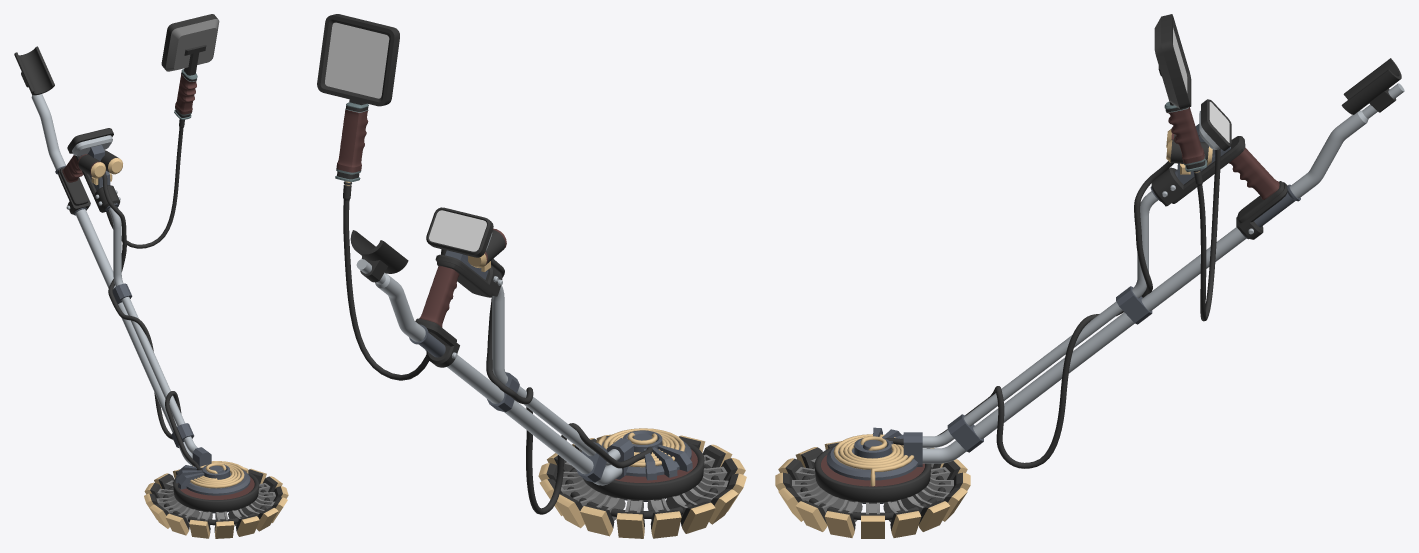
The model's file is M-Metal Detector.fbx.
3 views of the same model, side by side, from view 1: azimuth 30°, elevation 25°; view 2: azimuth 150°, elevation 25°; view 3: azimuth 270°, elevation 25° (orthographic). The views are drawn at different scales.
Parts seen in each view (by area): view 1: Tool Structure Tube, Magnetic Ring, Display Large, Head Ring, Detector Cable, Structure Ring, Tool Hardware, Display Handle, Cooling Spiral, Display Cable, Tool Clamps, Battery Units (+3 smaller); view 2: Magnetic Ring, Tool Structure Tube, Display Large, Structure Ring, Detector Cable, Display Small, Head Ring, Tool Hardware, Display Handle, Display Cable, Tool Clamps, Tool Handle (+2 smaller); view 3: Tool Structure Tube, Magnetic Ring, Detector Cable, Structure Ring, Tool Hardware, Head Ring, Display Large, Tool Clamps, Display Cable, Cooling Spiral, Display Handle, Display Small (+1 smaller).
Part boxes in pixels (x1=…): Tool Structure Tube: x1=14, y1=46, x2=197, y2=465; Magnetic Ring: x1=144, y1=468, x2=288, y2=538; Display Large: x1=161, y1=14, x2=219, y2=71; Head Ring: x1=175, y1=464, x2=254, y2=513; Detector Cable: x1=102, y1=172, x2=202, y2=470; Structure Ring: x1=163, y1=472, x2=269, y2=525; Tool Hardware: x1=58, y1=155, x2=120, y2=214; Display Handle: x1=174, y1=45, x2=206, y2=119; Cooling Spiral: x1=190, y1=461, x2=248, y2=488; Display Cable: x1=106, y1=119, x2=184, y2=248; Tool Clamps: x1=112, y1=283, x2=211, y2=466; Battery Units: x1=77, y1=150, x2=122, y2=178; Magnetic Ring: x1=538, y1=434, x2=746, y2=538; Tool Structure Tube: x1=350, y1=230, x2=622, y2=485; Display Large: x1=317, y1=14, x2=399, y2=106; Structure Ring: x1=565, y1=439, x2=719, y2=518; Detector Cable: x1=486, y1=259, x2=652, y2=514; Display Small: x1=426, y1=207, x2=493, y2=257; Head Ring: x1=602, y1=430, x2=697, y2=501; Tool Hardware: x1=415, y1=254, x2=502, y2=367; Display Handle: x1=335, y1=99, x2=368, y2=181; Display Cable: x1=343, y1=181, x2=446, y2=380; Tool Clamps: x1=487, y1=372, x2=633, y2=482; Tool Handle: x1=419, y1=265, x2=459, y2=327; Tool Structure Tube: x1=922, y1=58, x2=1404, y2=463; Magnetic Ring: x1=775, y1=441, x2=970, y2=538; Detector Cable: x1=885, y1=161, x2=1173, y2=468; Structure Ring: x1=800, y1=445, x2=945, y2=519; Tool Hardware: x1=1151, y1=136, x2=1287, y2=239; Head Ring: x1=821, y1=427, x2=924, y2=503; Display Large: x1=1154, y1=14, x2=1191, y2=109; Tool Clamps: x1=903, y1=286, x2=1152, y2=466; Display Cable: x1=1193, y1=148, x2=1220, y2=321; Cooling Spiral: x1=833, y1=434, x2=913, y2=486; Display Handle: x1=1158, y1=66, x2=1207, y2=171; Display Small: x1=1199, y1=99, x2=1231, y2=150.
Size of the model in its own units: 1.41 by 3.07 by 3.28.
